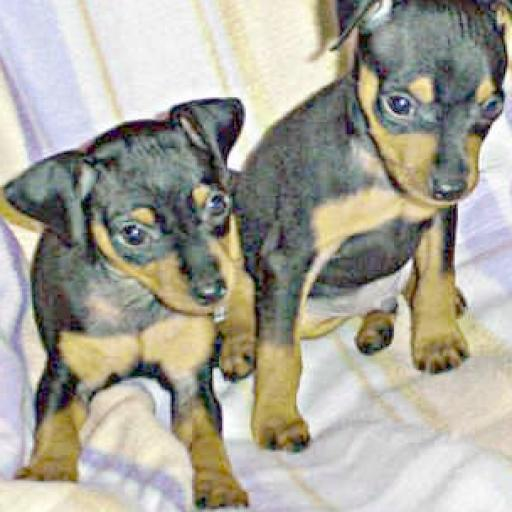dog_face: (5, 94, 248, 309), (313, 0, 511, 214)
